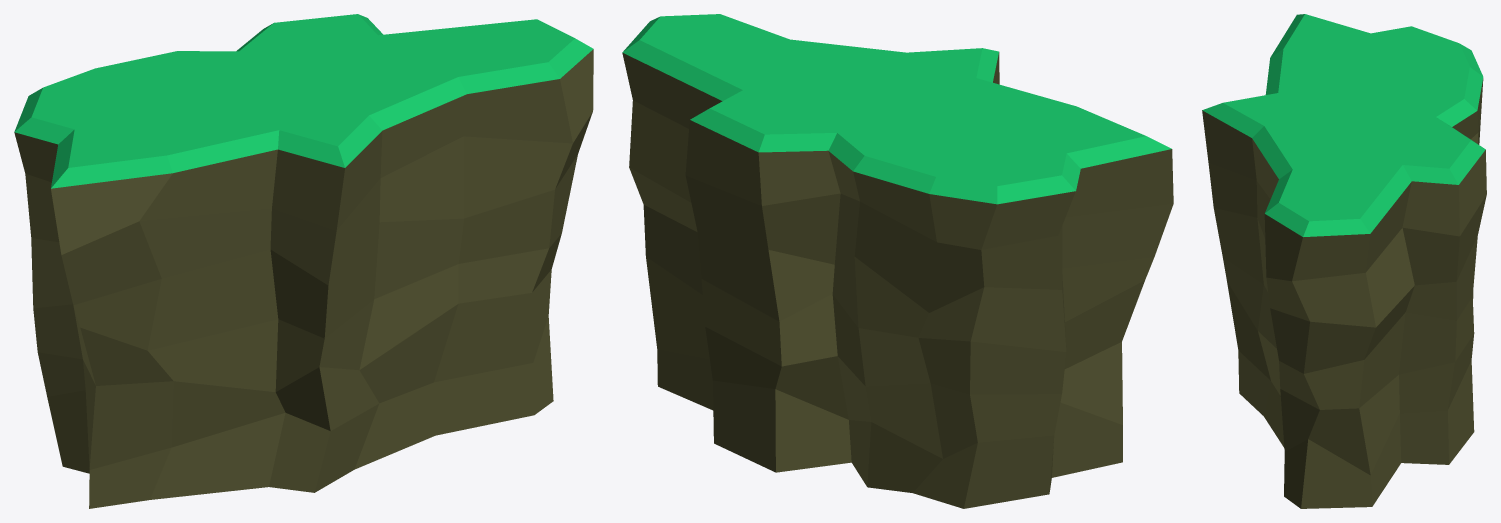
The model's file is LowPolyGround.fbx.
The picture shows the model from 3 angles, left to right: view 1: azimuth 30°, elevation 25°; view 2: azimuth 150°, elevation 25°; view 3: azimuth 270°, elevation 25°; orthographic projection. The views are drawn at different scales.
Visible parts, largest first — view 1: Plane; view 2: Plane; view 3: Plane.
Part boxes in pixels (x1=…): Plane: x1=14, y1=14, x2=593, y2=508; Plane: x1=622, y1=14, x2=1173, y2=508; Plane: x1=1202, y1=14, x2=1486, y2=508.
Size of the model in its own units: 142 by 88.16 by 75.51.
